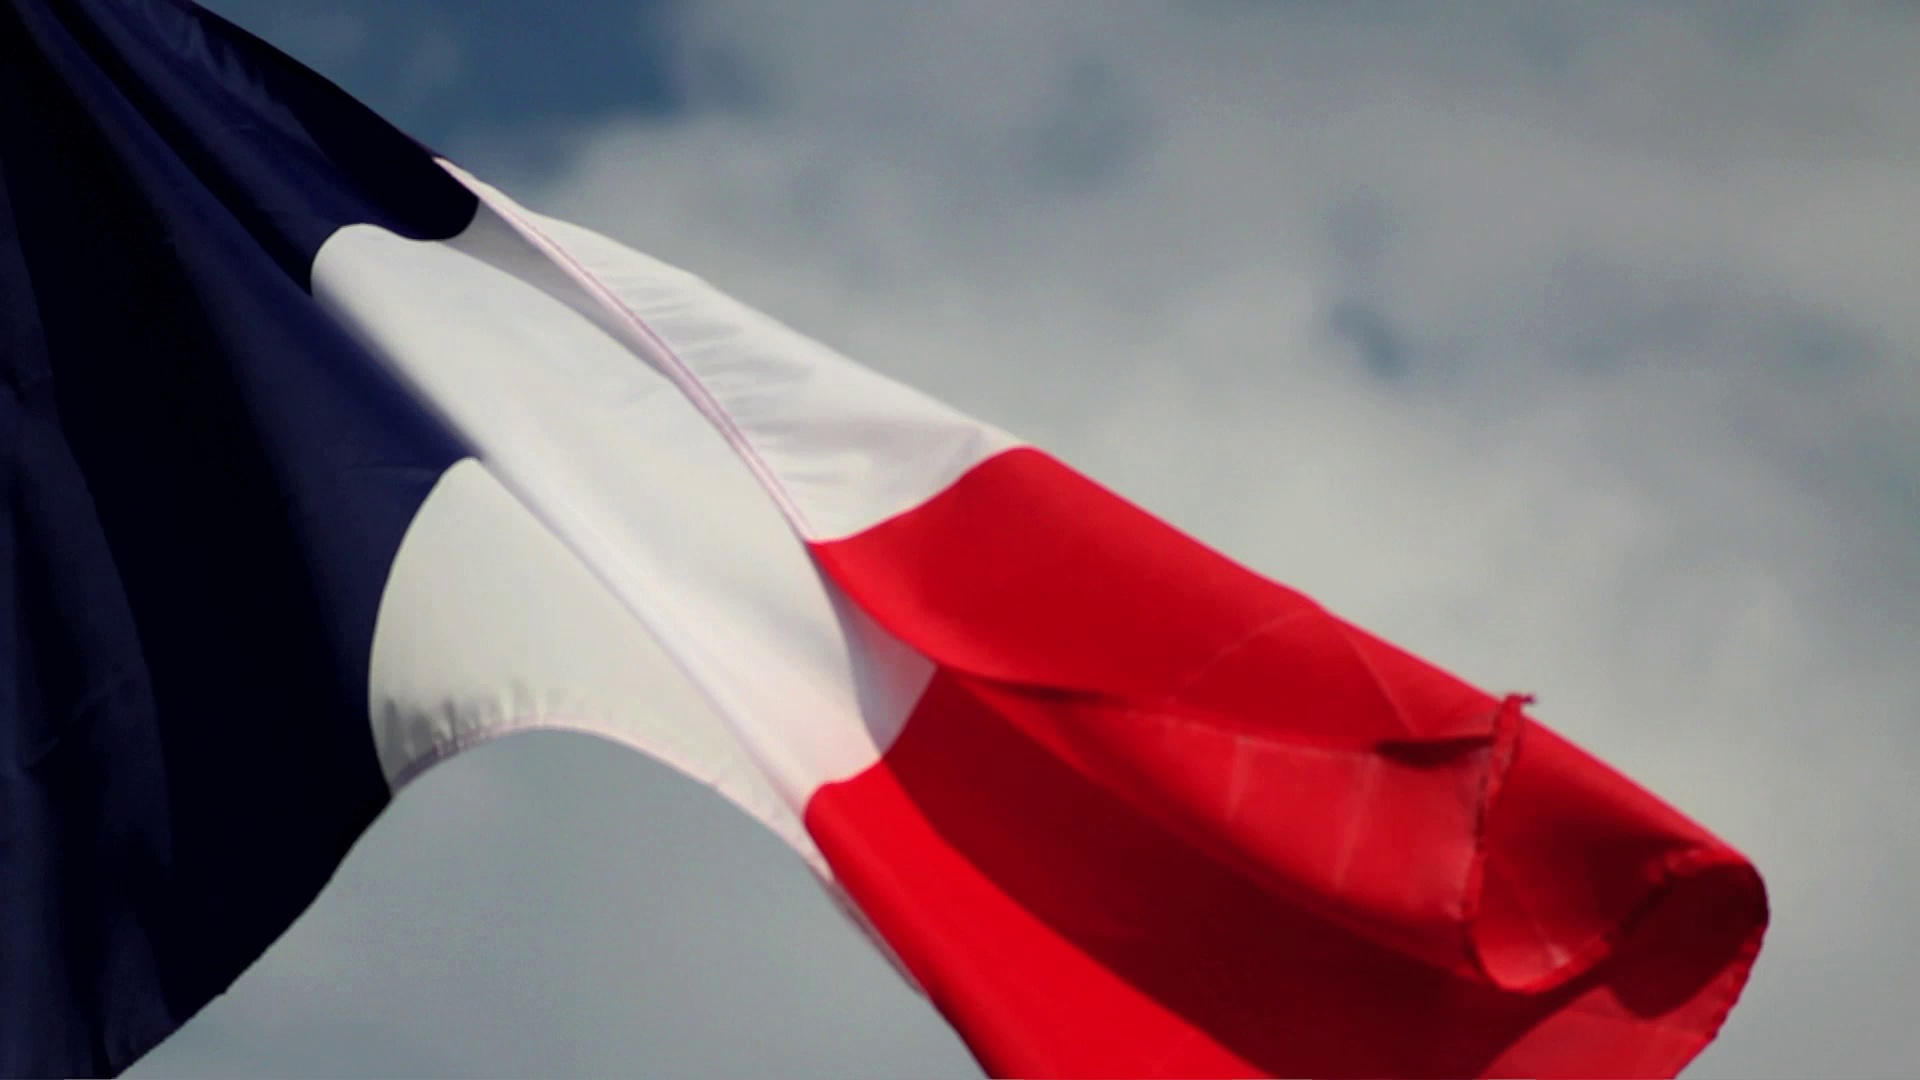French Flag: (1, 1, 1775, 1076)
